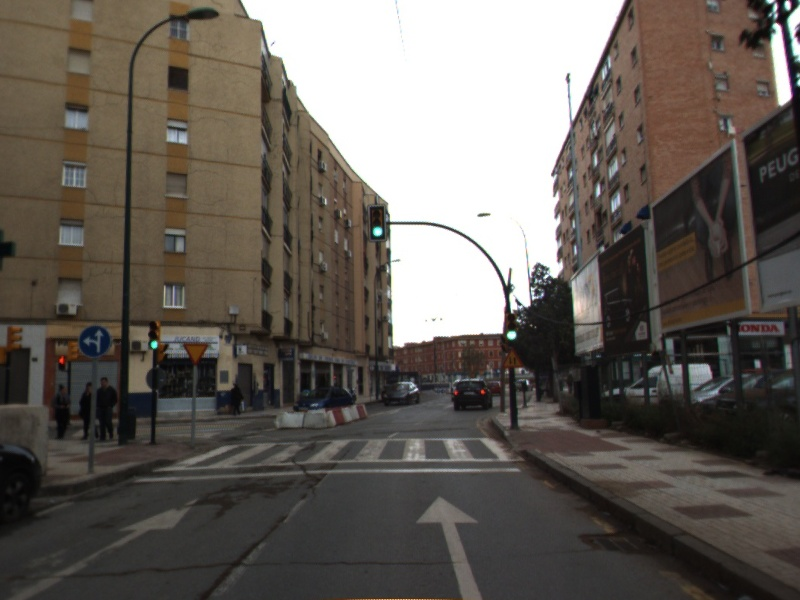STRAIGHT: (4, 491, 206, 600), (412, 491, 490, 600)
